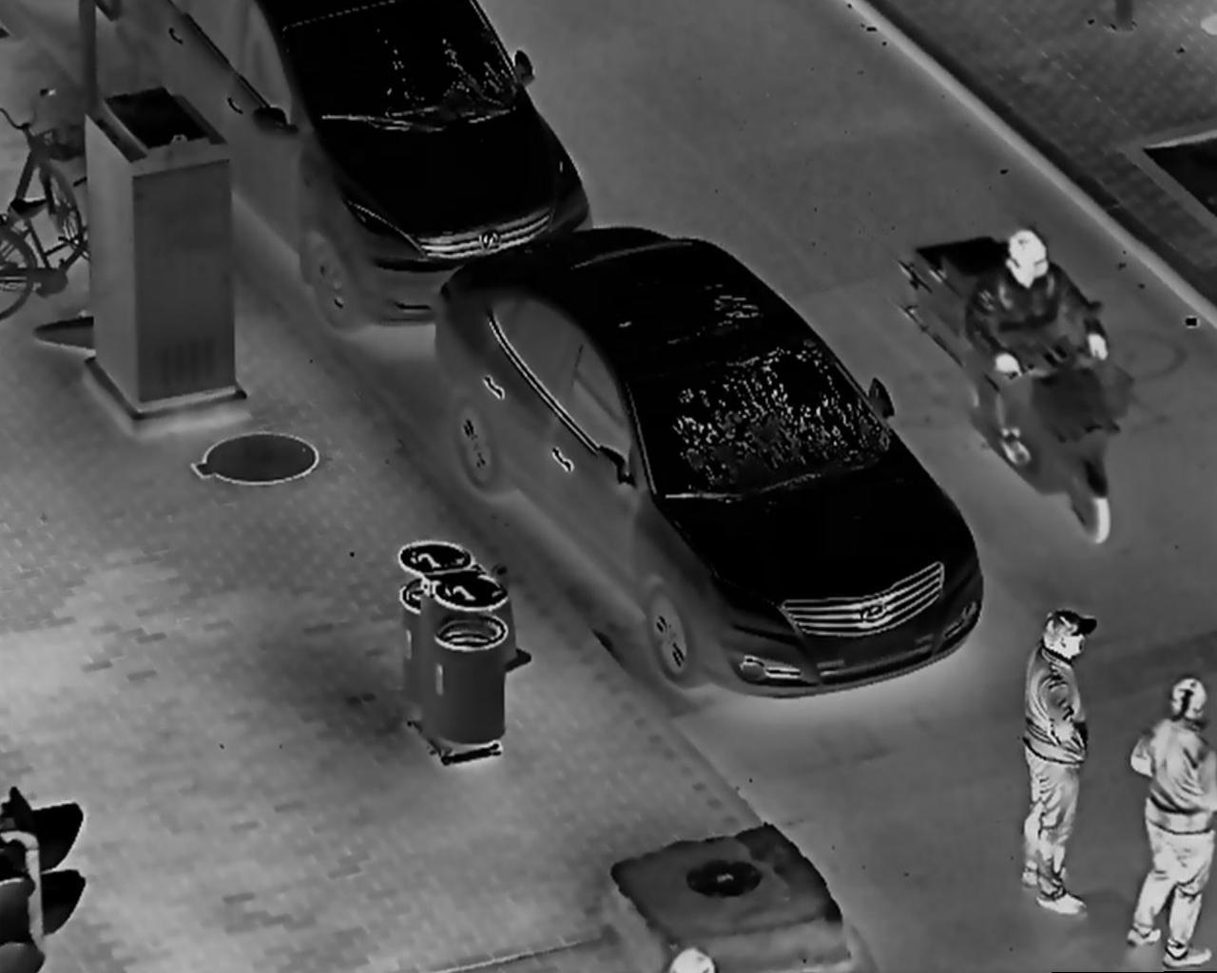person: (972, 232, 1123, 490), (1016, 608, 1099, 918), (1130, 676, 1212, 973)
